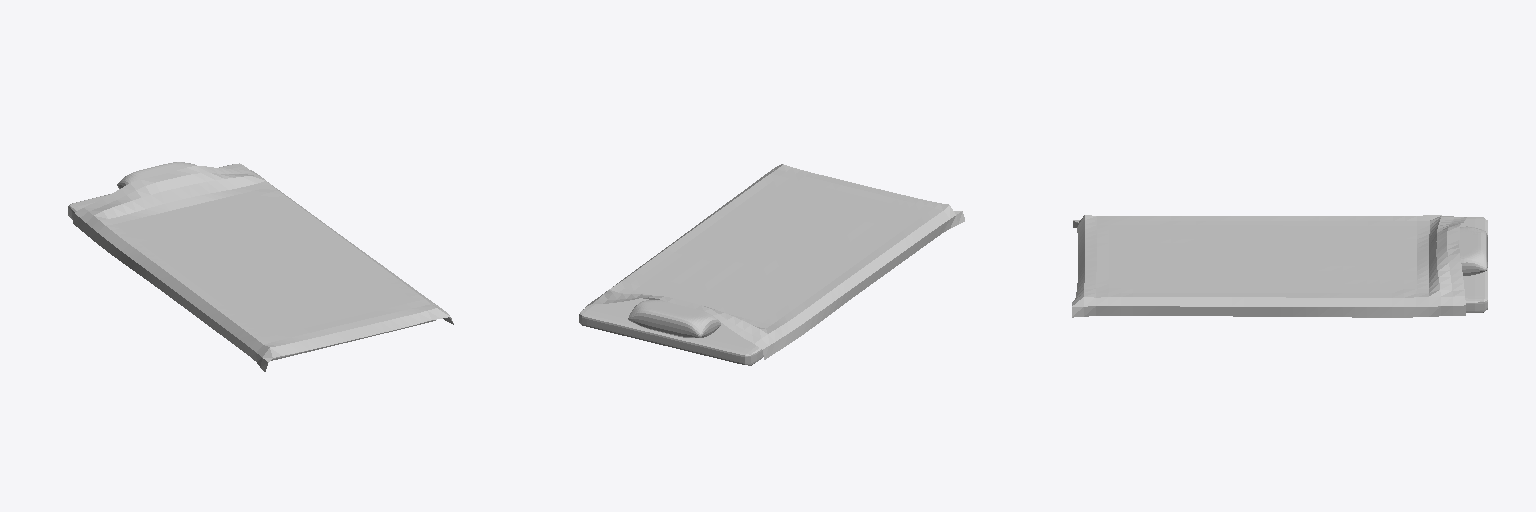
File: SU_futon.obj
3 renders of one model, left to right at view 1: azimuth 30°, elevation 25°; view 2: azimuth 150°, elevation 25°; view 3: azimuth 270°, elevation 25°, orthographic.
Parts seen in each view (by area): view 1: Bed.007; view 2: Bed.007; view 3: Bed.007.
Boxes of the visible parts, box(x1,y1,x2,y2) form: Bed.007: box(68, 162, 453, 371); Bed.007: box(579, 164, 964, 365); Bed.007: box(1072, 215, 1487, 317).
Size of the model in its own units: 5.37 by 0.9705 by 10.3.